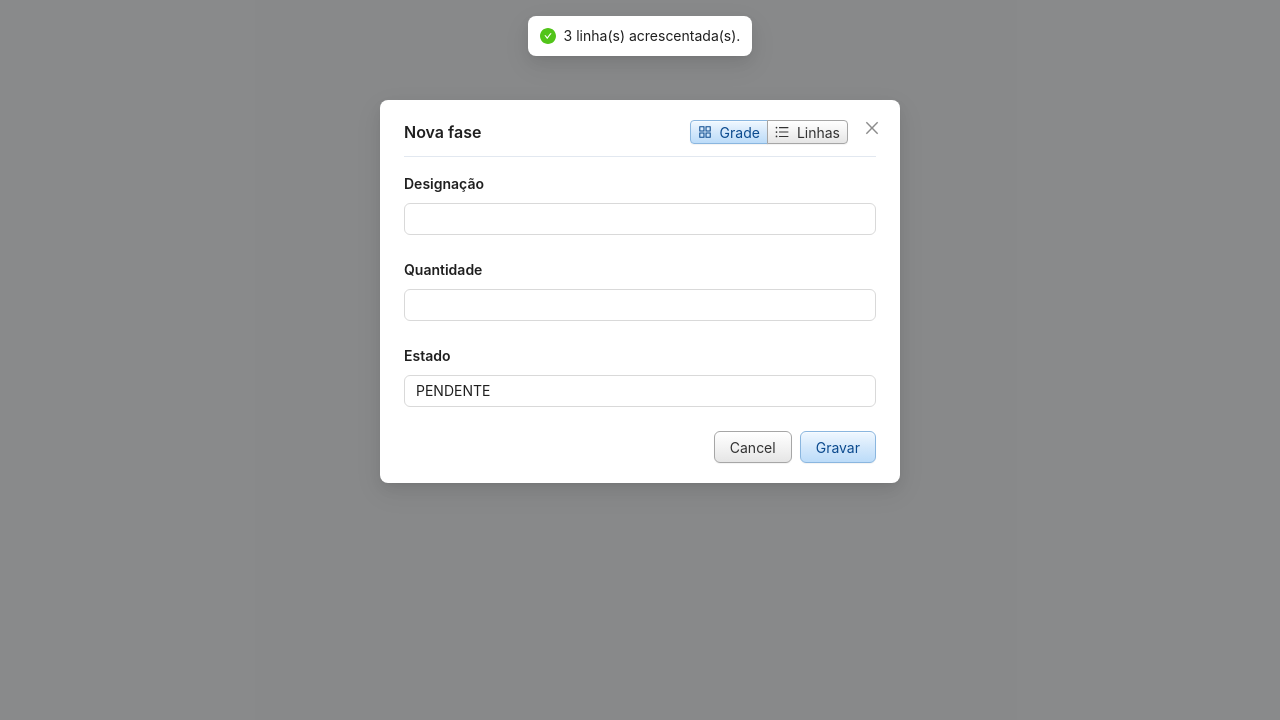
Scenario: ModalFormulario — Grade | Linhas › valida obrigatórios por linha antes de gravar e não grava nada
Click the button "Linhas" at (807, 132), box top-left (767, 120), bottom-right (848, 144)
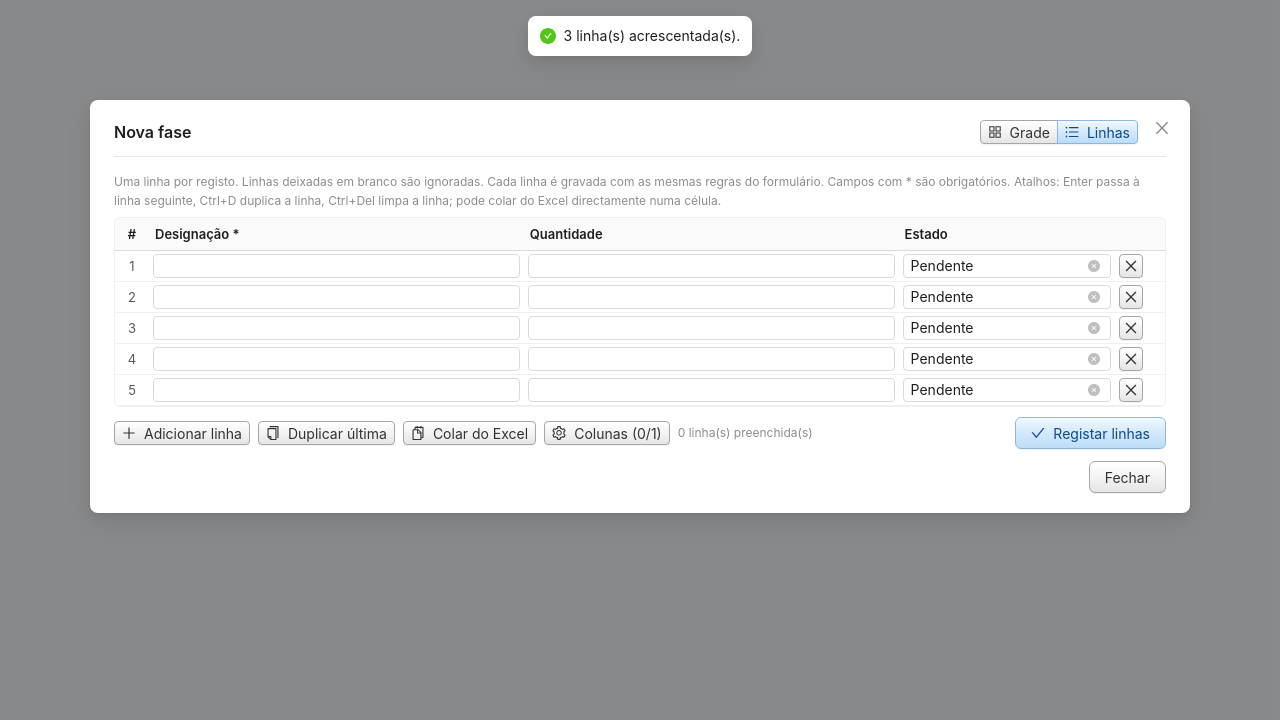
Expected: the element with test id "painel-linhas" is shown, top-left (114, 173), bottom-right (1166, 449)
Type "A" into the field named "Designação, linha 1" at (336, 266), box top-left (153, 254), bottom-right (520, 278)
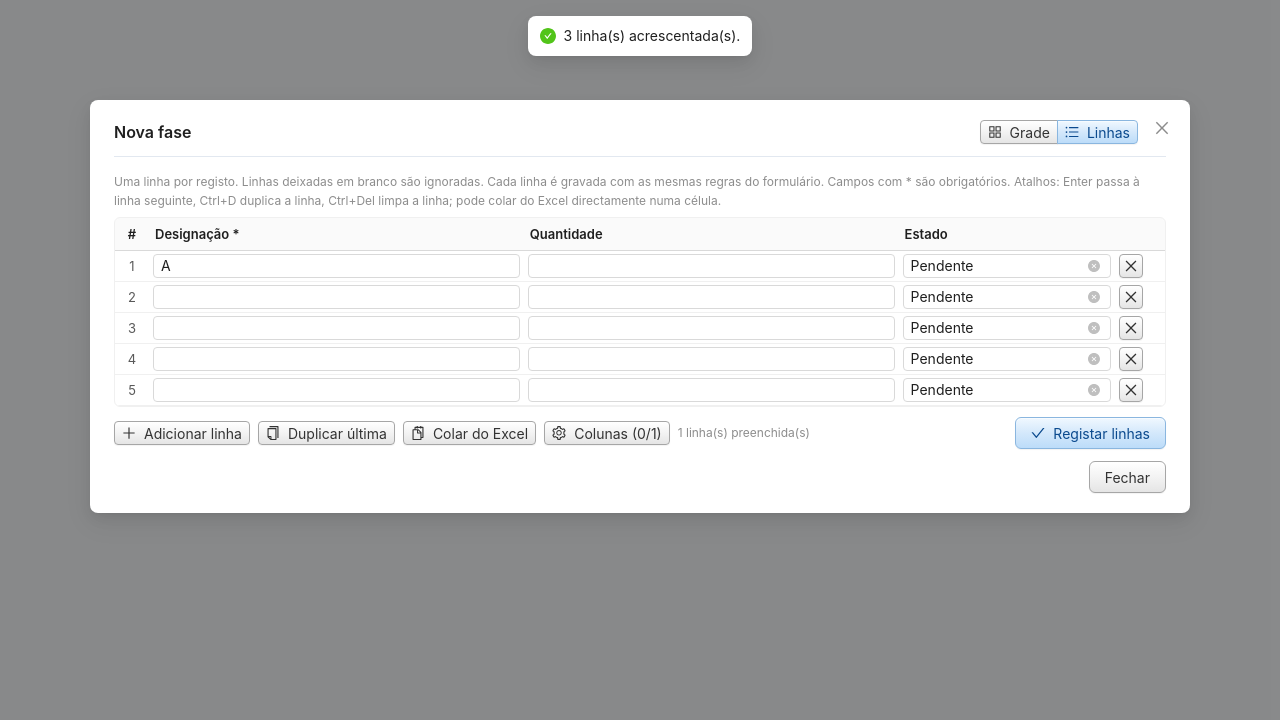
Type "4" into the number field named "Quantidade, linha 2" at (711, 297), box top-left (529, 286), bottom-right (894, 308)
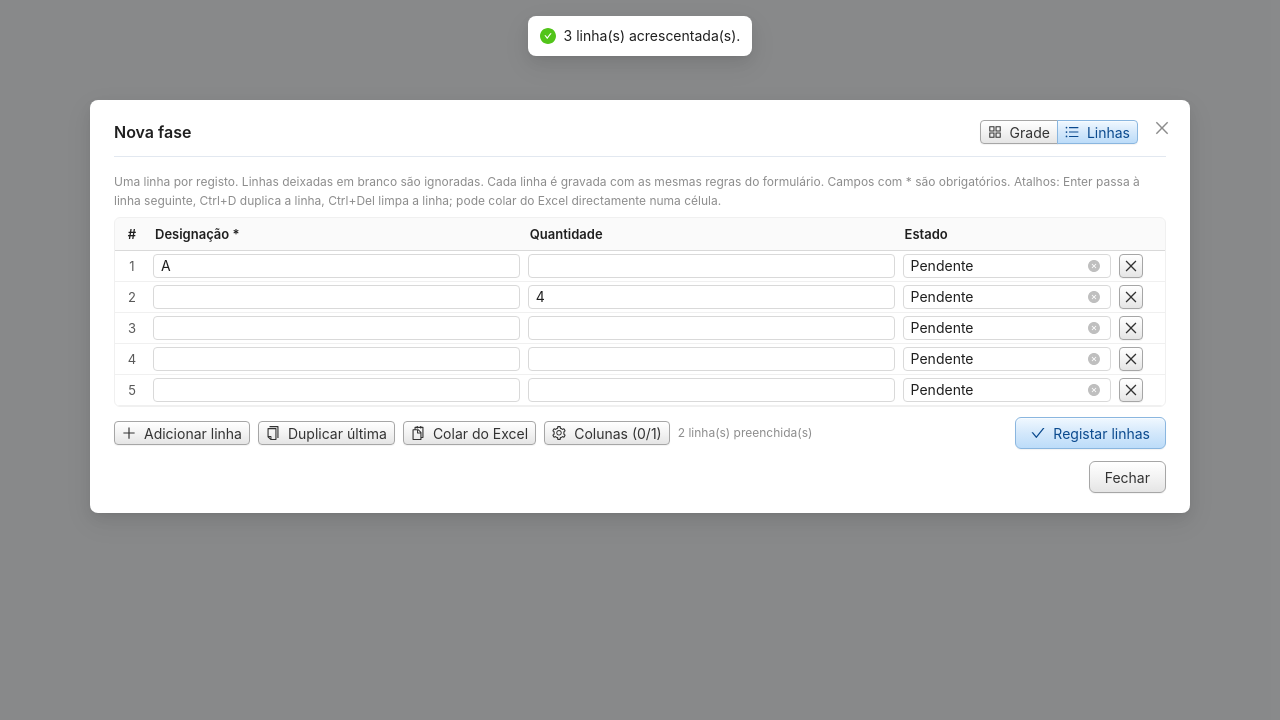
Click the button "Registar linhas" at (1091, 433), box top-left (1015, 417), bottom-right (1166, 449)
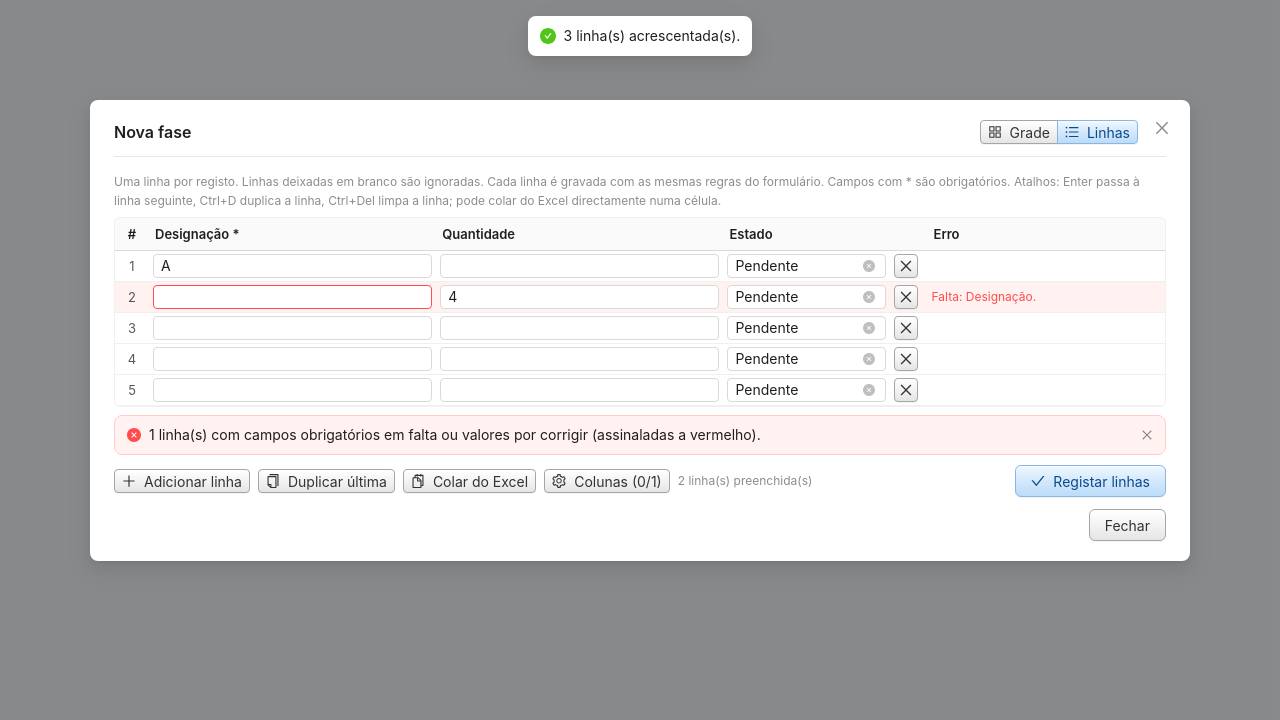
Expected: the text "1 linha(s) com campos obrigatórios em falta" is shown, top-left (149, 426), bottom-right (761, 443)
Expected: the text "Falta: Designação." is shown, top-left (928, 282), bottom-right (1165, 313)
